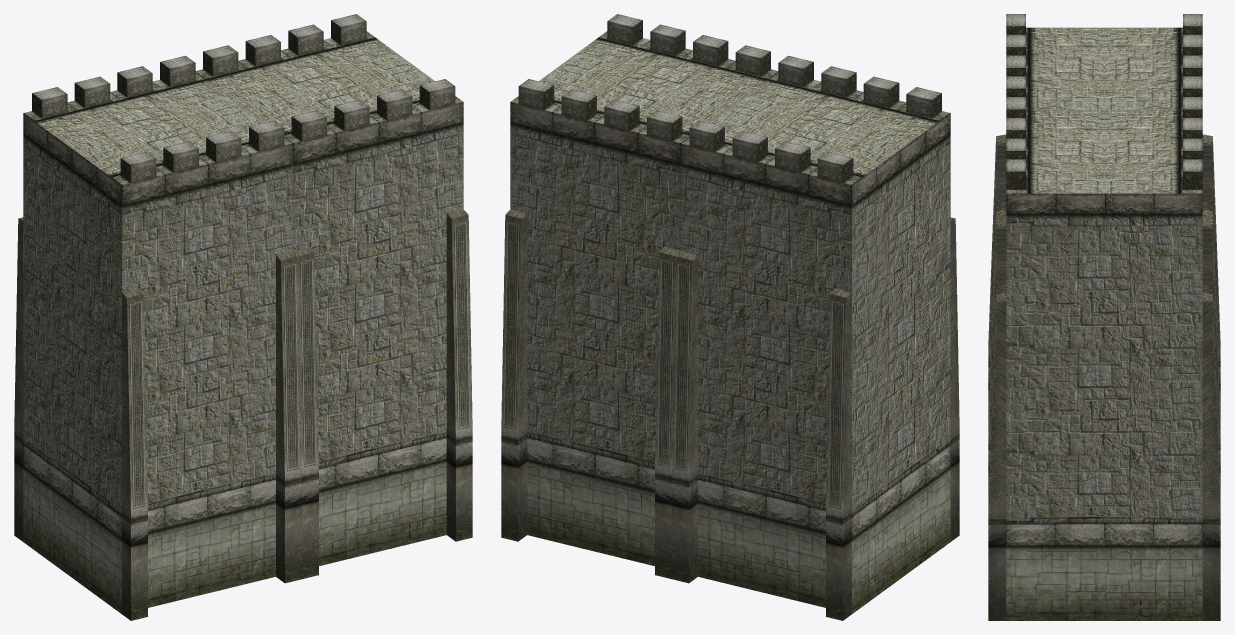
The model's file is b1-bigdam-03.fbx.
3 renders of one model, left to right at view 1: azimuth 30°, elevation 25°; view 2: azimuth 150°, elevation 25°; view 3: azimuth 270°, elevation 25°, orthographic.
Parts seen in each view (by area): view 1: b1-bigdam-03; view 2: b1-bigdam-03; view 3: b1-bigdam-03.
Boxes of the visible parts, x1,y1,x2,y2 form: b1-bigdam-03: (14,14,472,620); b1-bigdam-03: (501,14,959,620); b1-bigdam-03: (988,14,1220,620).
Size of the model in its own units: 20 by 25 by 11.84.
